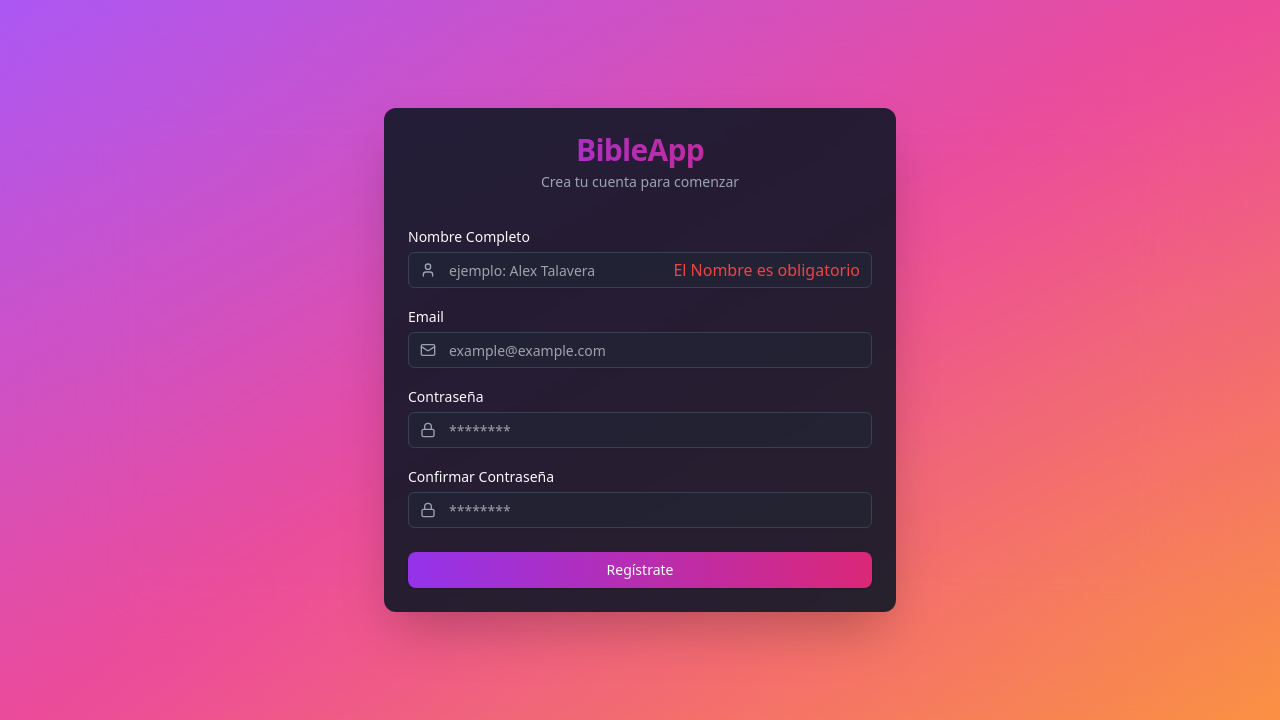
Test: Register Page › deberia lanzar un error cuando las claves no sean identicas
Type "Juan Pérez" into the field with id "full-name" at {"x": 640, "y": 270}, box [408, 252, 872, 288]
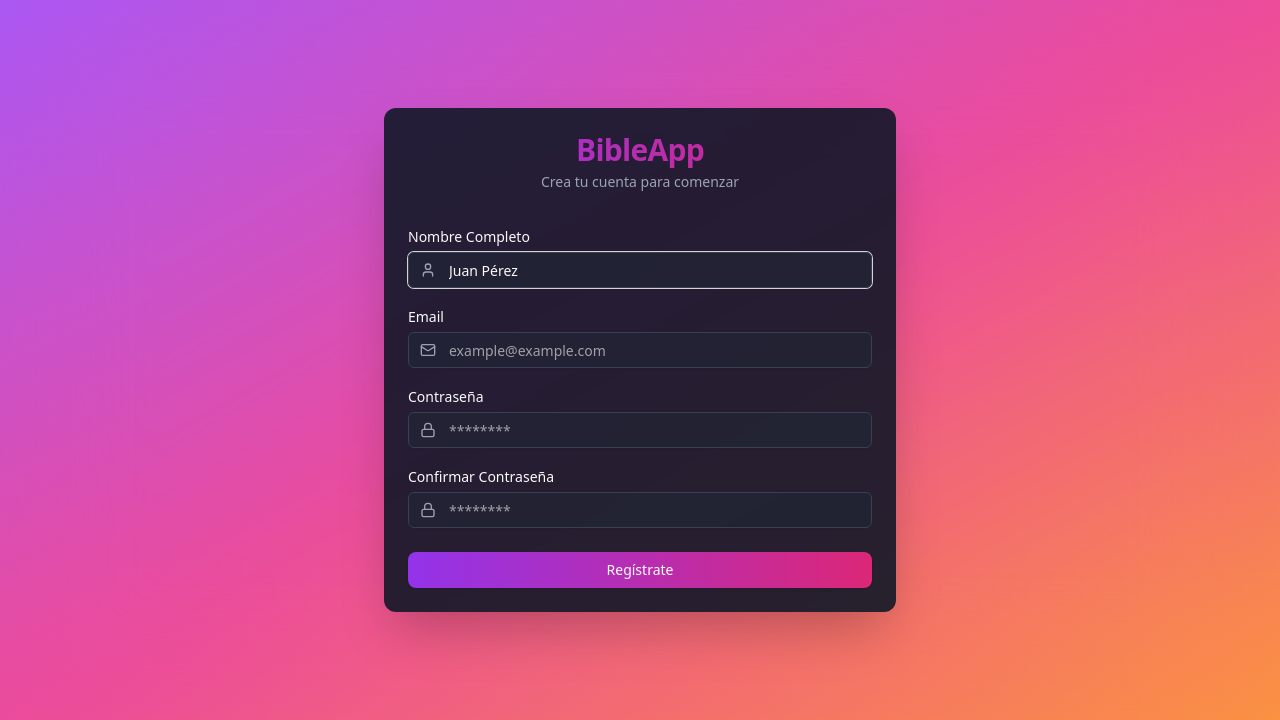
Type "juan@example.com" into the field with id "email" at {"x": 640, "y": 350}, box [408, 332, 872, 368]
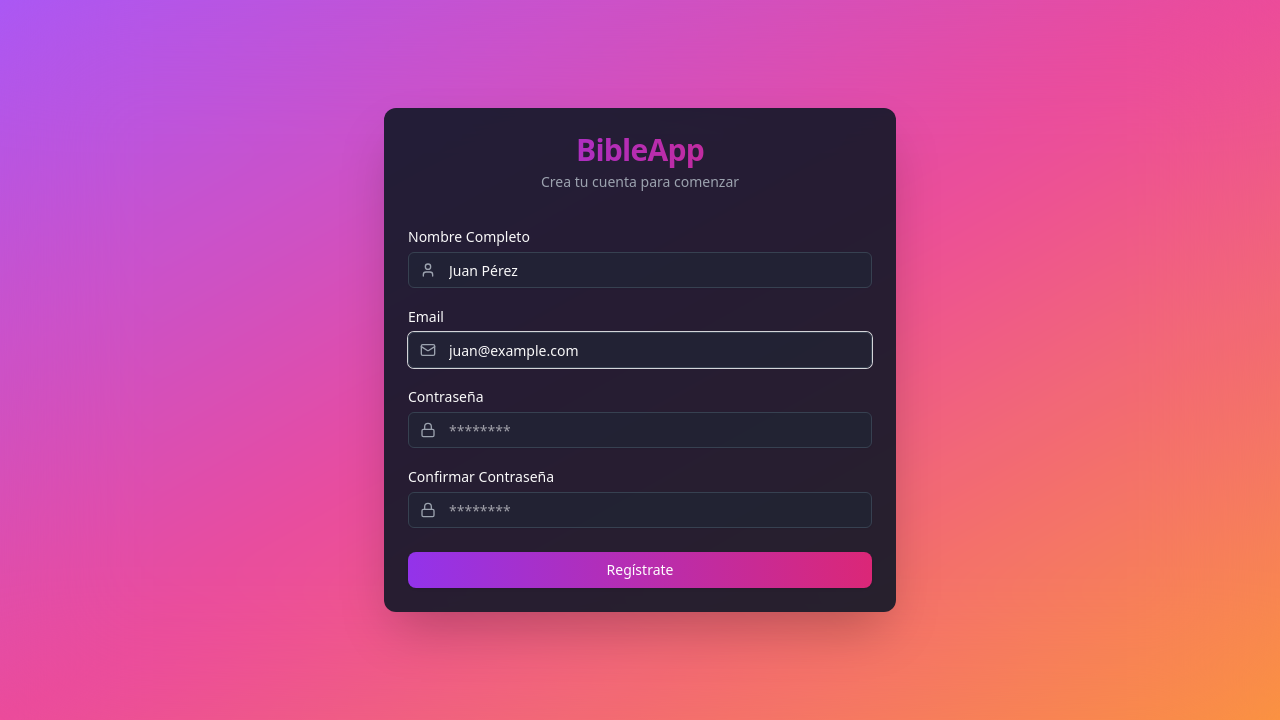
Type "Password123!" into the password field labelled "Contraseña" at {"x": 640, "y": 430}, box [408, 412, 872, 448]
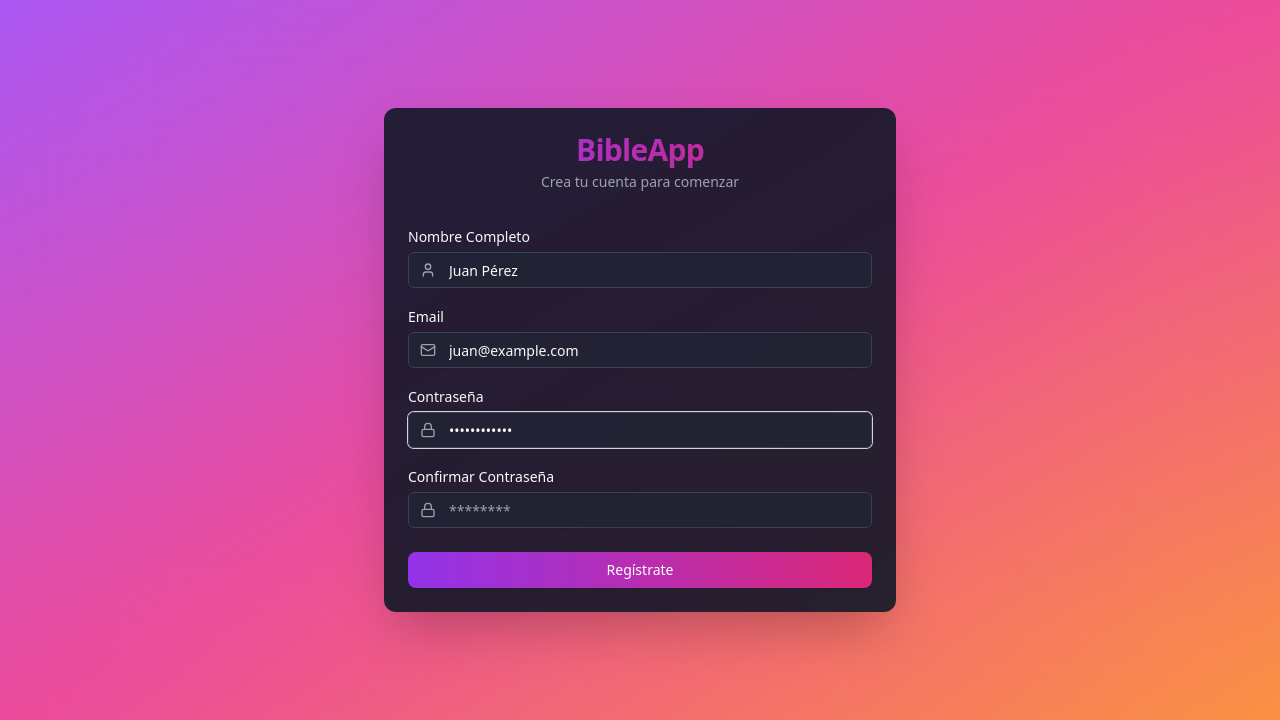
Type "DifferentPass!" into the password field with id "confirm-password" at {"x": 640, "y": 510}, box [408, 492, 872, 528]
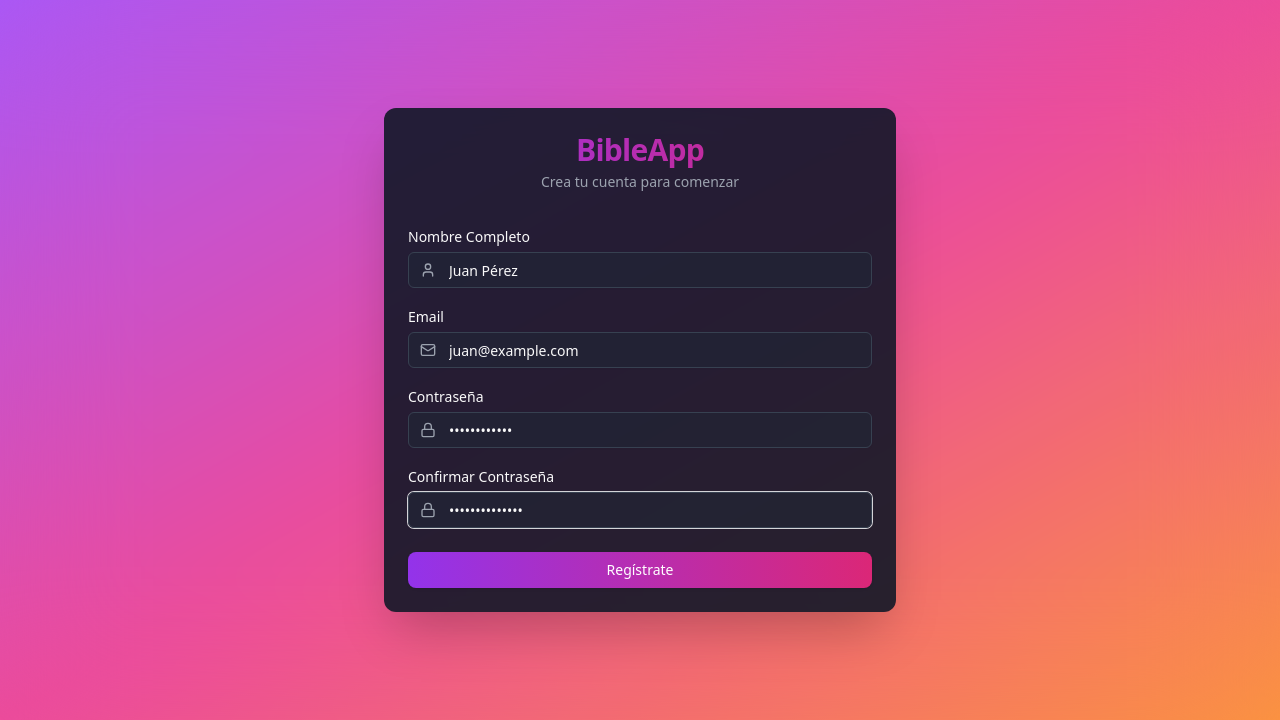
Click the submit button at {"x": 640, "y": 570}, box [408, 552, 872, 588]
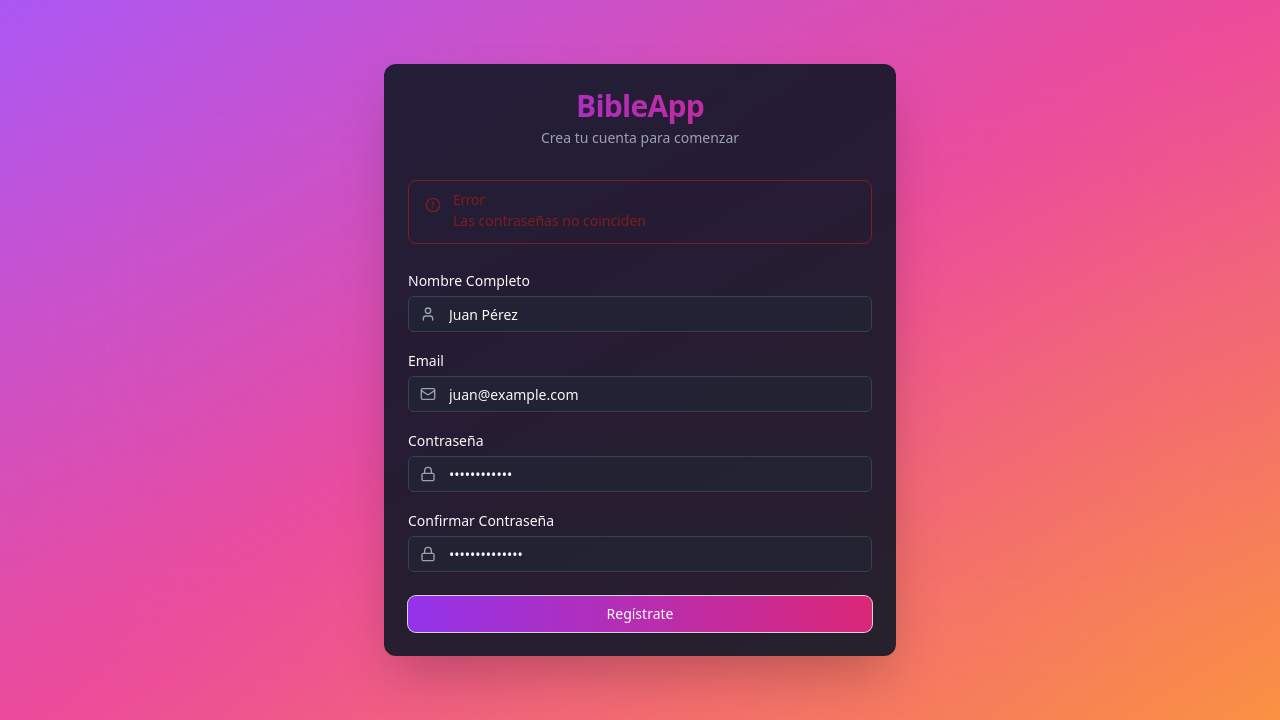
Check: the text "Las contraseñas no coinciden" is shown, box [453, 211, 646, 230]
